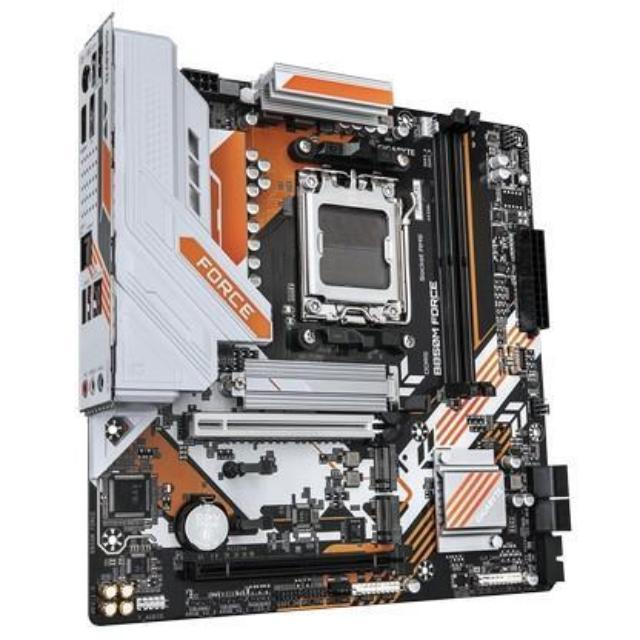Mainboard: (71, 6, 574, 636)
